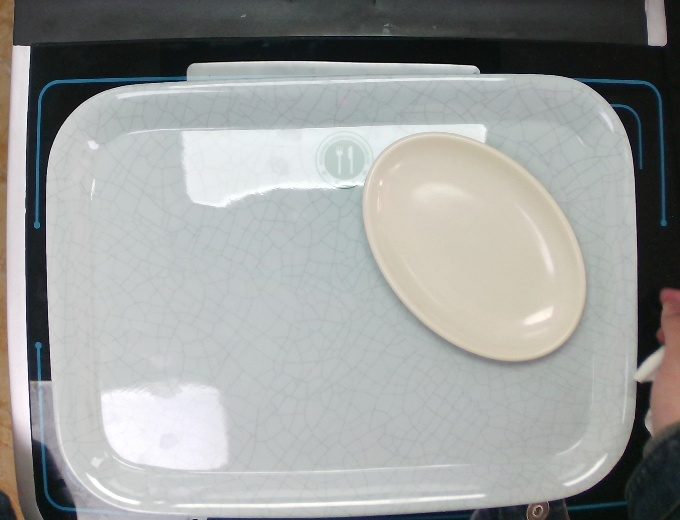JYsf-Tuo_Yuan_Wan: (355, 126, 593, 367)
